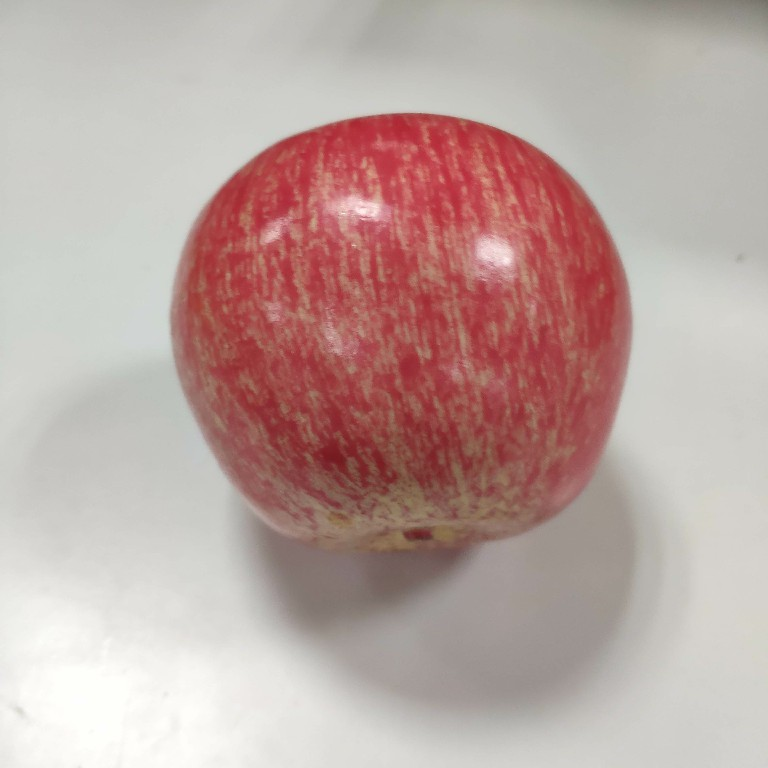fruit_apple: (162, 109, 642, 561)
